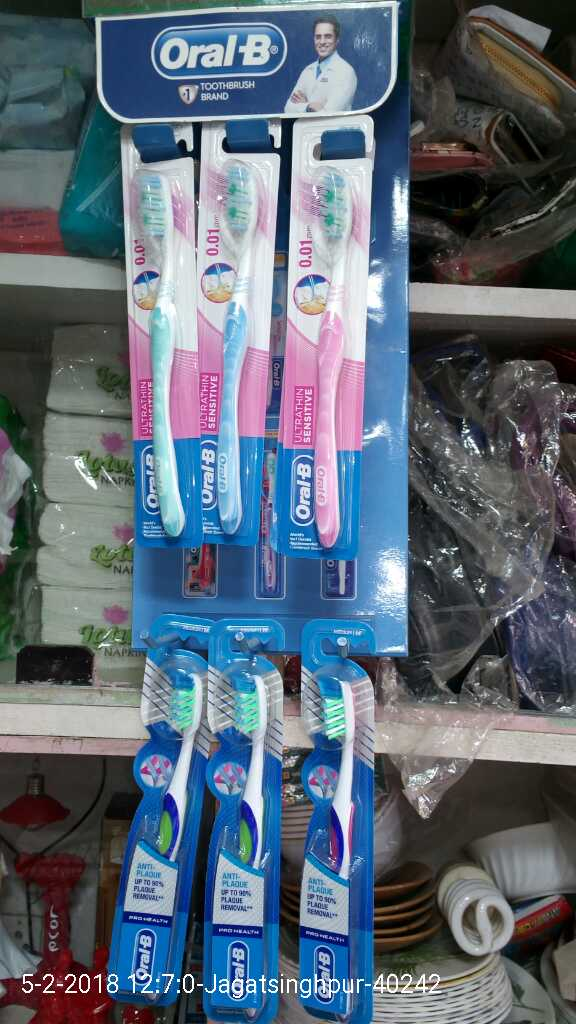oralb: (184, 114, 267, 551), (108, 119, 190, 541), (292, 119, 371, 554), (199, 614, 284, 1011), (299, 614, 374, 998), (114, 610, 187, 999)
